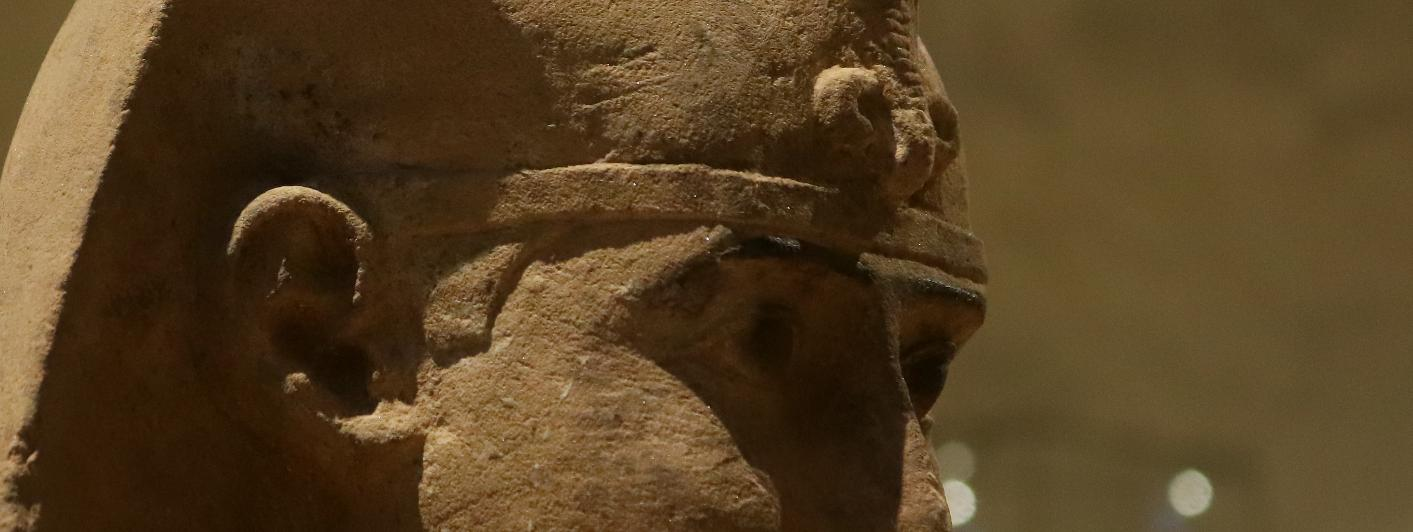statue_ofthe_sphinx: (0, 0, 856, 532)
